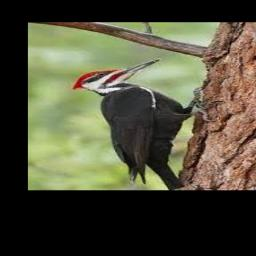Woodpecker: (72, 58, 219, 190)
